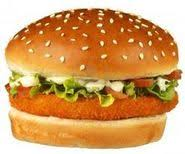hamburger: (3, 7, 185, 148)
